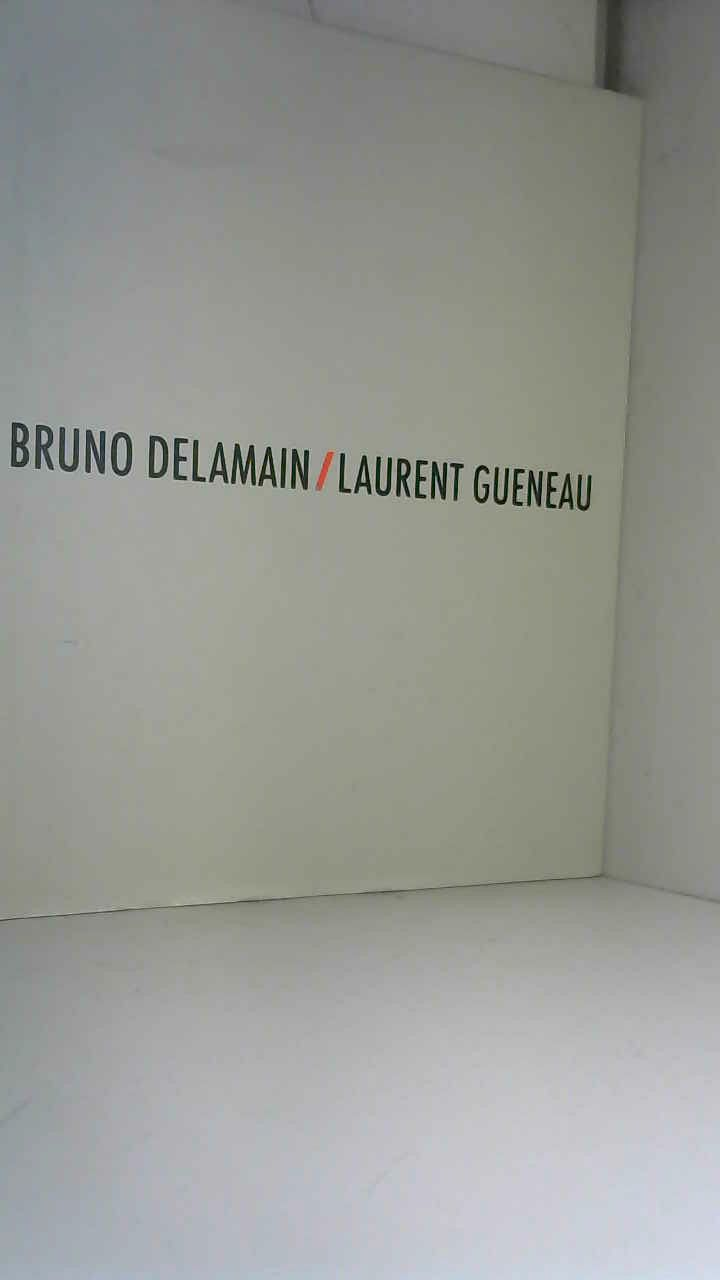book: (0, 0, 667, 951)
